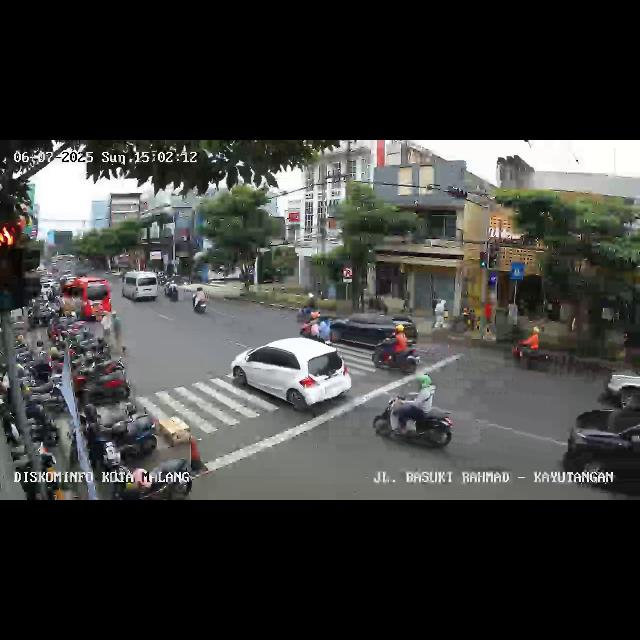car: (233, 335, 354, 417), (562, 404, 640, 500), (326, 314, 420, 346), (58, 276, 112, 322), (597, 358, 639, 410), (121, 271, 161, 305)
motorcycle: (374, 376, 460, 456), (375, 320, 419, 376), (509, 326, 557, 376), (298, 310, 332, 348), (192, 285, 208, 315), (165, 280, 179, 304)
